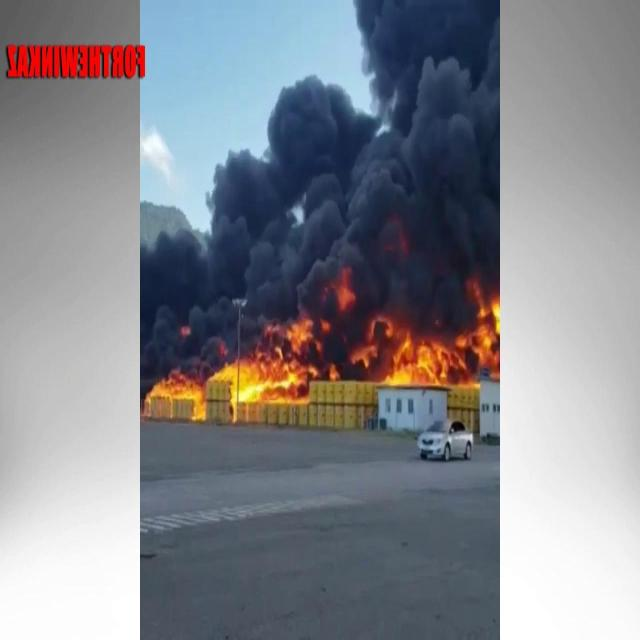Fire: (375, 308, 497, 387), (147, 349, 313, 399)
